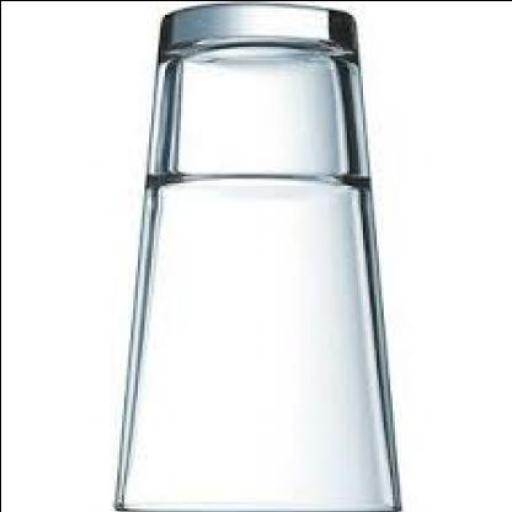glass: (108, 2, 396, 511)
